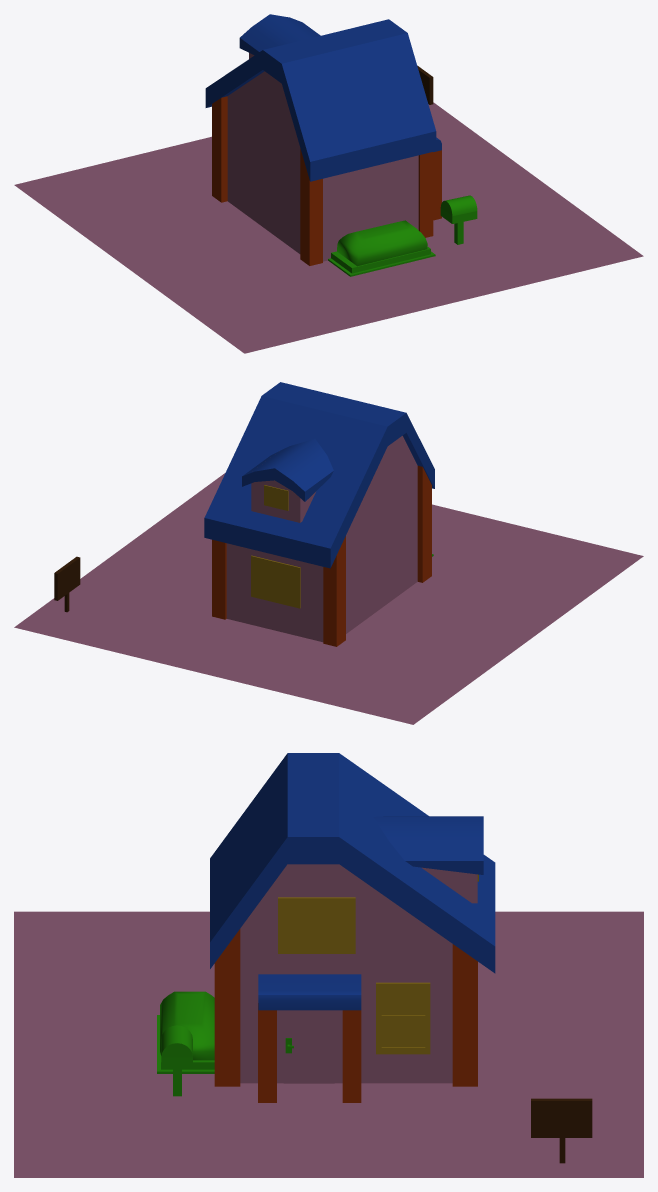
3 views of the same model, one above another, from view 1: azimuth 30°, elevation 25°; view 2: azimuth 150°, elevation 25°; view 3: azimuth 270°, elevation 25° (orthographic). The views are drawn at different scales.
Parts seen in each view (by area): view 1: pPlane1, polySurface7, polySurface8, pCube19, polySurface3, pasted__pCube17, polySurface4, polySurface2, pCube18, pCylinder1, pCube13; view 2: pPlane1, polySurface7, polySurface8, pasted__pCube17, pasted__pCube16 (×2), polySurface4, polySurface3, pCube17, polySurface1, pCube25; view 3: pPlane1, polySurface7, polySurface8, pasted__pCube17, pCube16, pCube15, pCube14, polySurface2, pCube2, polySurface1, pCube19, pCube25 (+5 smaller).
Part boxes in pixels (box(x1,y1,x2,y2)): pPlane1: box(14, 102, 643, 353); polySurface7: box(205, 19, 436, 181); polySurface8: box(227, 71, 418, 261); pCube19: box(337, 220, 427, 266); polySurface3: box(300, 148, 322, 265); pasted__pCube17: box(239, 14, 320, 55); polySurface4: box(212, 96, 227, 202); polySurface2: box(418, 152, 433, 237); pCube18: box(328, 246, 435, 276); pCylinder1: box(440, 195, 477, 223); pCube13: box(433, 150, 441, 220); pPlane1: box(14, 473, 643, 724); polySurface7: box(204, 382, 434, 568); polySurface8: box(226, 436, 417, 642); pasted__pCube17: box(242, 439, 333, 501); pasted__pCube16 (×2): box(251, 485, 300, 608); polySurface4: box(323, 536, 345, 646); polySurface3: box(417, 465, 431, 582); pCube17: box(251, 480, 315, 522); polySurface1: box(212, 539, 226, 619); pCube25: box(54, 556, 80, 600); pPlane1: box(14, 911, 643, 1177); polySurface7: box(210, 753, 495, 973); polySurface8: box(240, 864, 452, 1083); pasted__pCube17: box(373, 816, 483, 874); pCube16: box(278, 897, 355, 953); pCube15: box(376, 982, 430, 1054); pCube14: box(258, 974, 361, 1010); polySurface2: box(214, 929, 240, 1086); pCube2: box(283, 1010, 334, 1083); polySurface1: box(452, 944, 477, 1086); pCube19: box(160, 991, 214, 1060); pCube25: box(531, 1098, 592, 1137).
Bounding box in the file's own units: 19.44 × 8.87 × 19.44.
